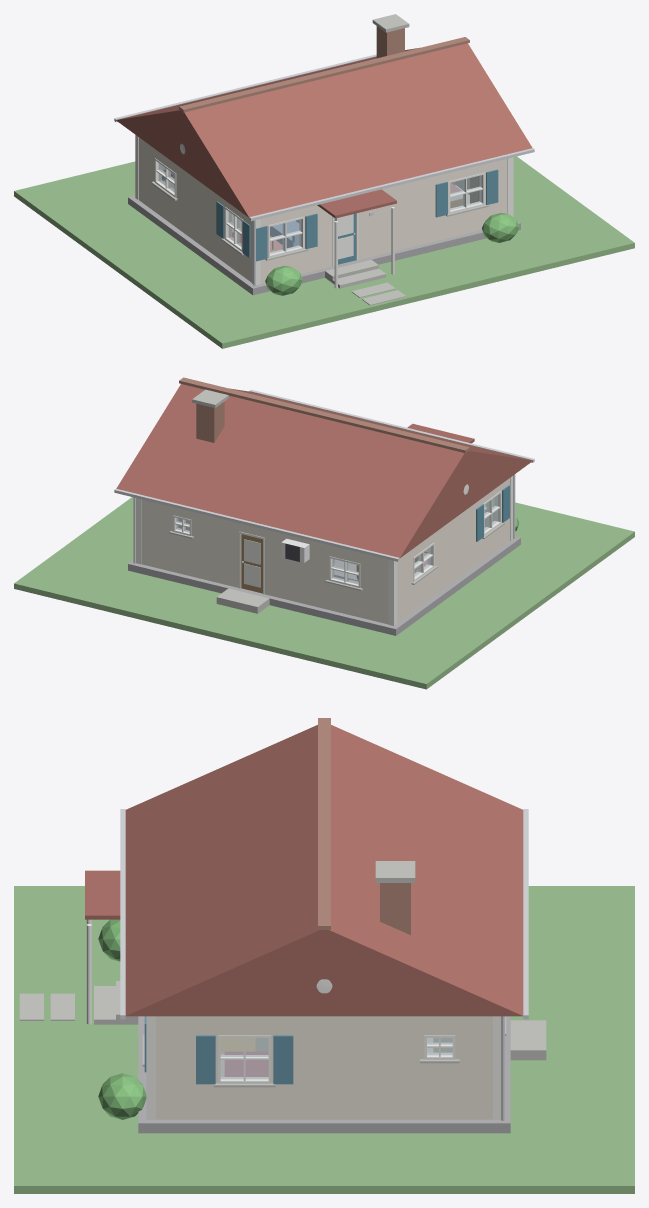
The model's file is house_detailed.glb.
3 renders of one model, top to bottom at view 1: azimuth 30°, elevation 25°; view 2: azimuth 150°, elevation 25°; view 3: azimuth 270°, elevation 25°, orthographic. The views are drawn at different scales.
Parts seen in each view (by area): view 1: roof, ground, wall_front_5, foundation, wall_left_3, ridge_cap, gutter_1, wall_front_3, canopy, wall_left_0, wall_front_8, bush_-1 (+10 smaller); view 2: roof, ground, foundation, wall_back_3, wall_back_5, wall_left_3, ridge_cap, wall_back_8, wall_back_0, gutter_-1, wall_left_0, chimney (+8 smaller); view 3: roof, ground, wall_right_3, foundation, wall_right_6, wall_right_0, ridge_cap, wall_right_sill_1, canopy, wall_right_sill_4, win_right_bed_glass, bush_1 (+15 smaller).
Part boxes in pixels (x1=…): roof: x1=116, y1=43, x2=532, y2=217; ground: x1=14, y1=156, x2=634, y2=348; wall_front_5: x1=358, y1=173, x2=448, y2=259; foundation: x1=128, y1=195, x2=520, y2=295; wall_left_3: x1=176, y1=165, x2=225, y2=262; ridge_cap: x1=179, y1=37, x2=469, y2=112; gutter_1: x1=249, y1=148, x2=534, y2=221; wall_front_3: x1=304, y1=205, x2=332, y2=273; canopy: x1=317, y1=189, x2=396, y2=218; wall_left_0: x1=139, y1=137, x2=155, y2=211; wall_front_8: x1=484, y1=158, x2=507, y2=221; bush_-1: x1=265, y1=265, x2=302, y2=295; roof: x1=116, y1=384, x2=532, y2=558; ground: x1=14, y1=497, x2=634, y2=689; foundation: x1=128, y1=536, x2=520, y2=635; wall_back_3: x1=265, y1=529, x2=329, y2=609; wall_back_5: x1=191, y1=511, x2=238, y2=587; wall_left_3: x1=434, y1=498, x2=483, y2=595; ridge_cap: x1=179, y1=377, x2=469, y2=452; wall_back_8: x1=141, y1=499, x2=173, y2=571; wall_back_0: x1=360, y1=553, x2=388, y2=624; gutter_-1: x1=114, y1=488, x2=399, y2=561; wall_left_0: x1=397, y1=549, x2=413, y2=622; chimney: x1=196, y1=401, x2=224, y2=442; roof: x1=125, y1=725, x2=523, y2=1016; ground: x1=14, y1=886, x2=634, y2=1193; wall_right_3: x1=271, y1=1016, x2=424, y2=1119; foundation: x1=138, y1=1016, x2=510, y2=1133; wall_right_6: x1=156, y1=1016, x2=217, y2=1119; wall_right_0: x1=455, y1=1016, x2=492, y2=1119; ridge_cap: x1=318, y1=718, x2=330, y2=929; wall_right_sill_1: x1=424, y1=1063, x2=455, y2=1119; canopy: x1=85, y1=870, x2=120, y2=919; wall_right_sill_4: x1=218, y1=1087, x2=271, y2=1119; win_right_bed_glass: x1=221, y1=1038, x2=268, y2=1078; bush_1: x1=98, y1=1073, x2=146, y2=1119.
Size of the model in its own units: 16 by 5.97 by 14.
